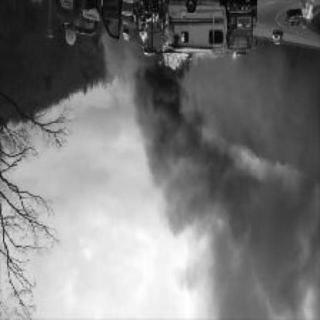Fire: (146, 14, 192, 76)
other: (230, 49, 246, 65)
